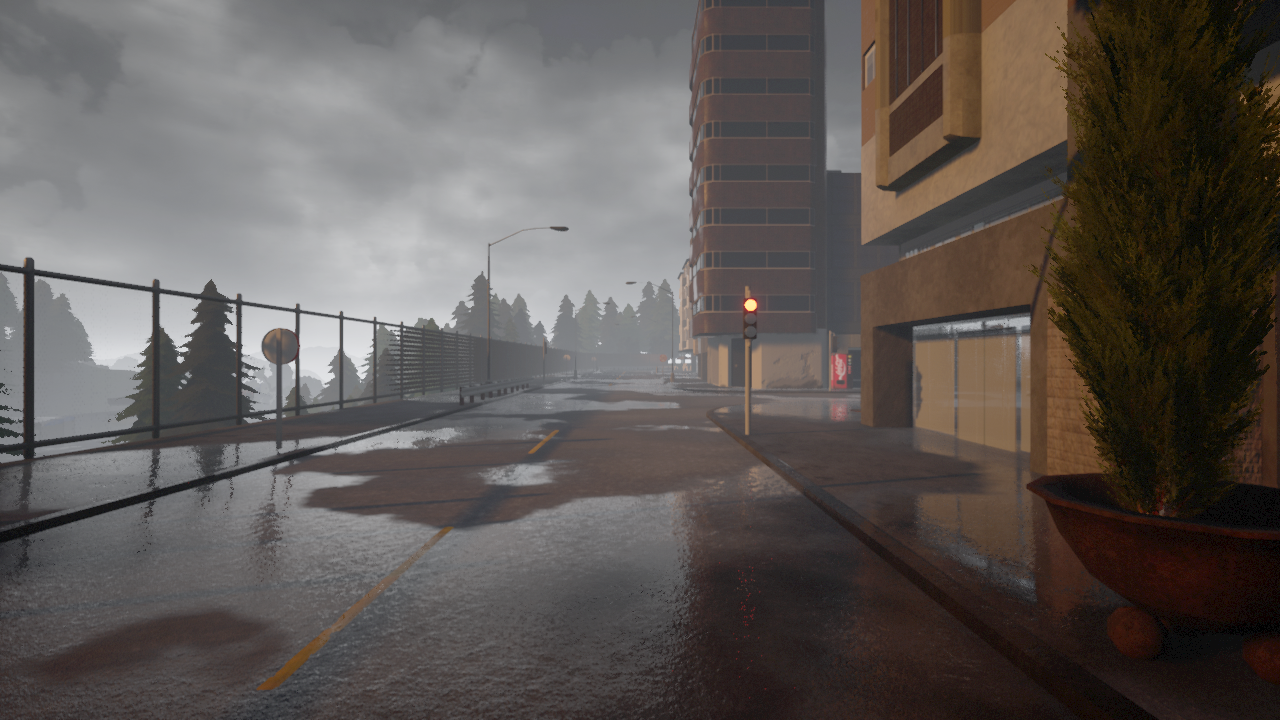red: (742, 297, 758, 341)
